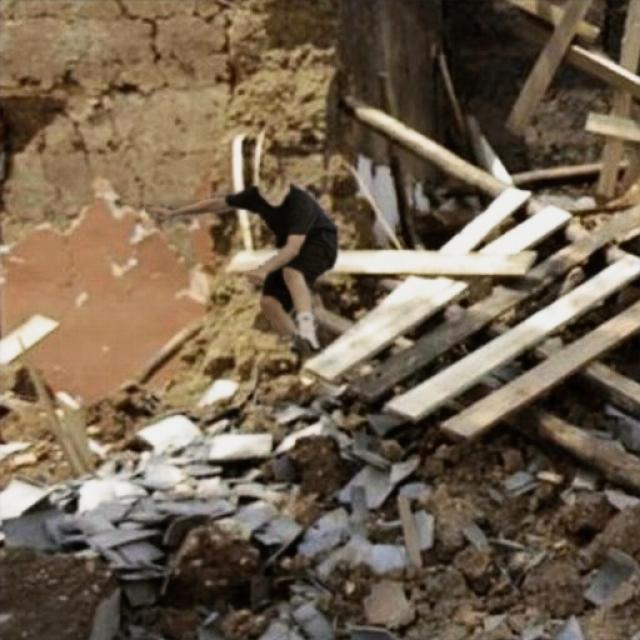Person in Rubble: (145, 184, 336, 350)
